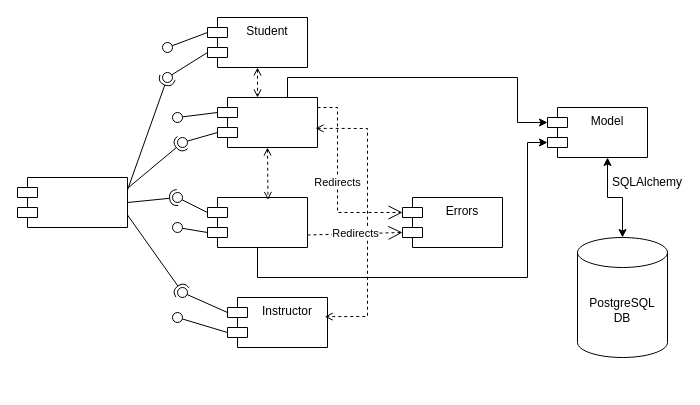
Image size: 700x405. Some labels were removed from this diagram. The shapes that lost their labels are listed below. From the top down, each one's centre as x and y in pixels, then its label:
(x=267, y=122): Main
(x=72, y=202): Client
(x=257, y=222): Auth
